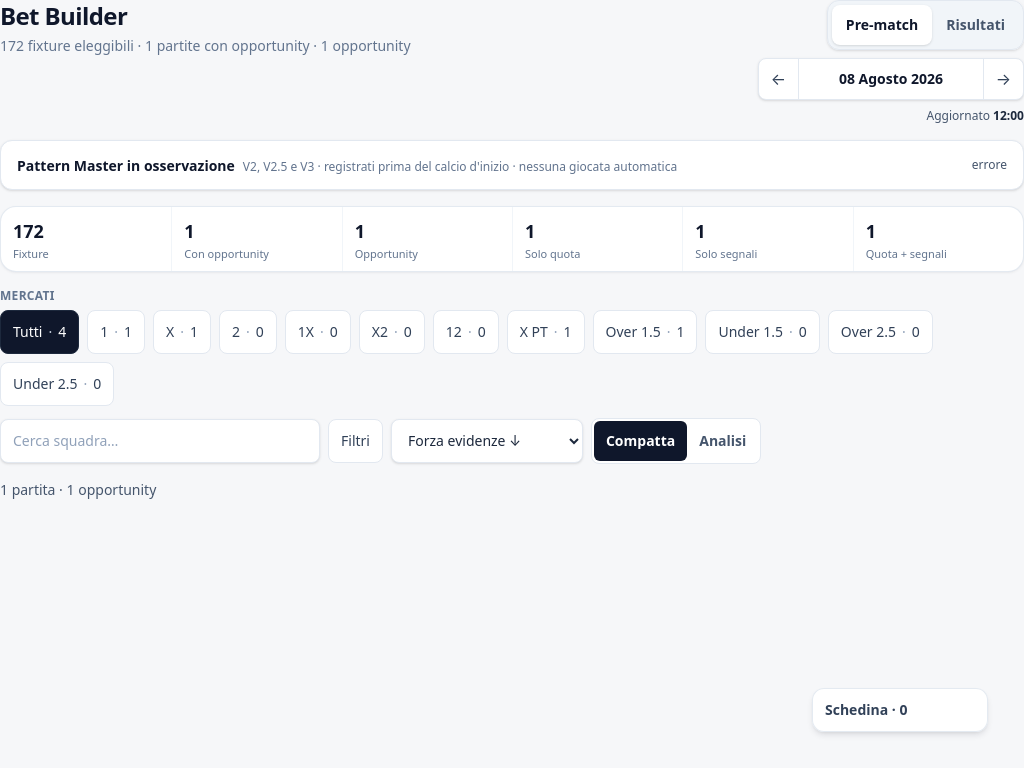
it: BetBuilderPage Results BET-RESULTS-01 › 2-3. switch Results e URL view=results
Click the tab with test id "bet-builder-view-results" at (976, 25), box [932,5,1019,45]
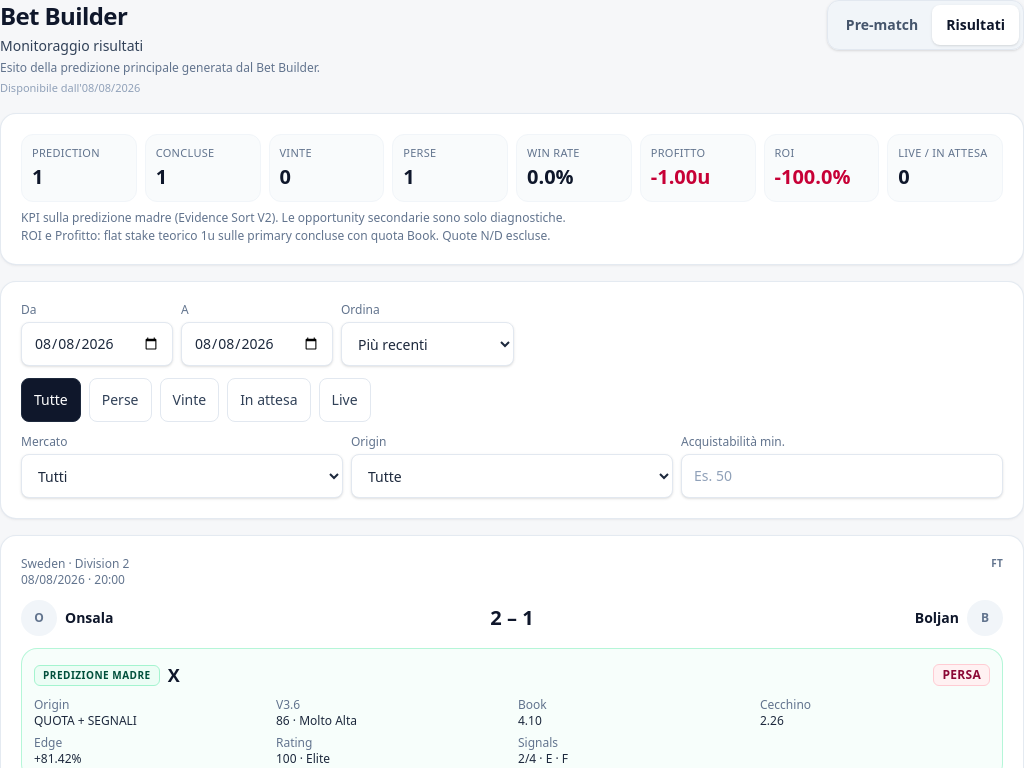
Expected: the element with test id "bet-builder-results-summary" is shown, [0,112,1023,265]
Expected: the text with test id "bet-builder-results-subtitle" reads "Monitoraggio risultati", [0,36,143,55]
